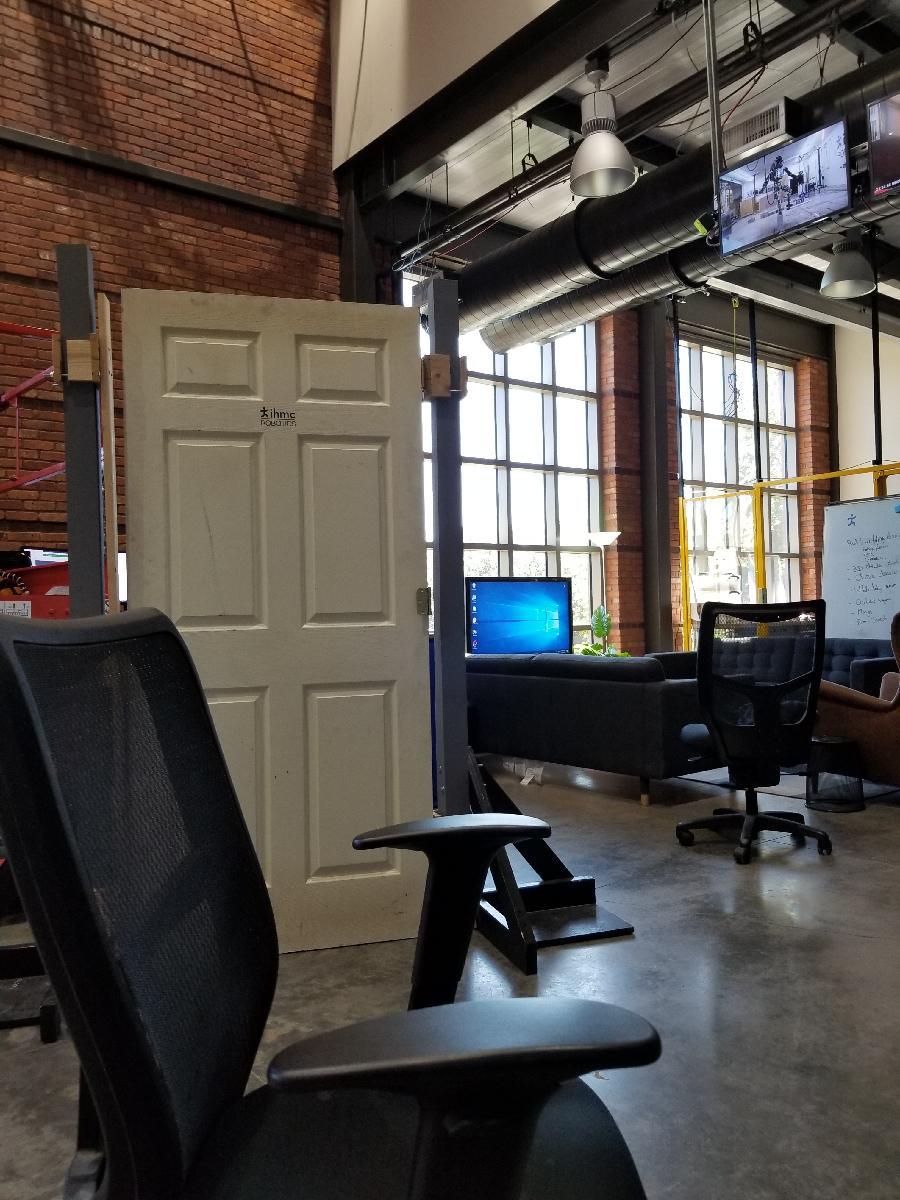door: (116, 282, 441, 972)
doorHandle: (119, 645, 197, 692)
